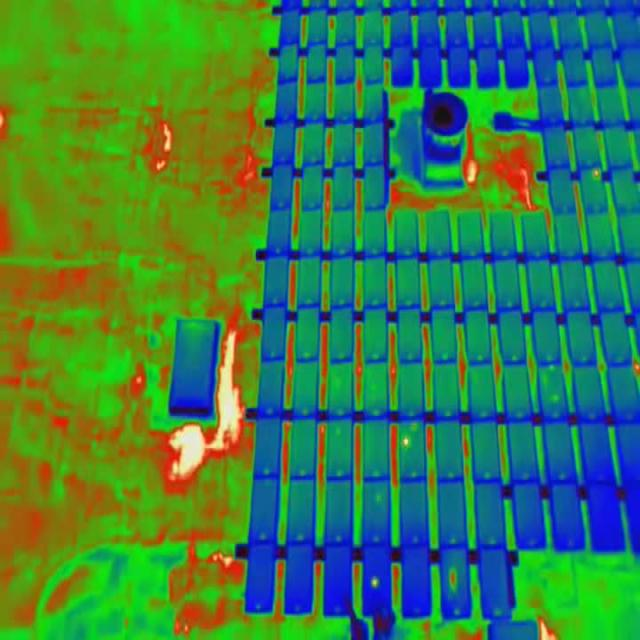Orange-Spots: (449, 568, 458, 593), (402, 436, 410, 447), (371, 578, 379, 587), (593, 170, 599, 178)
